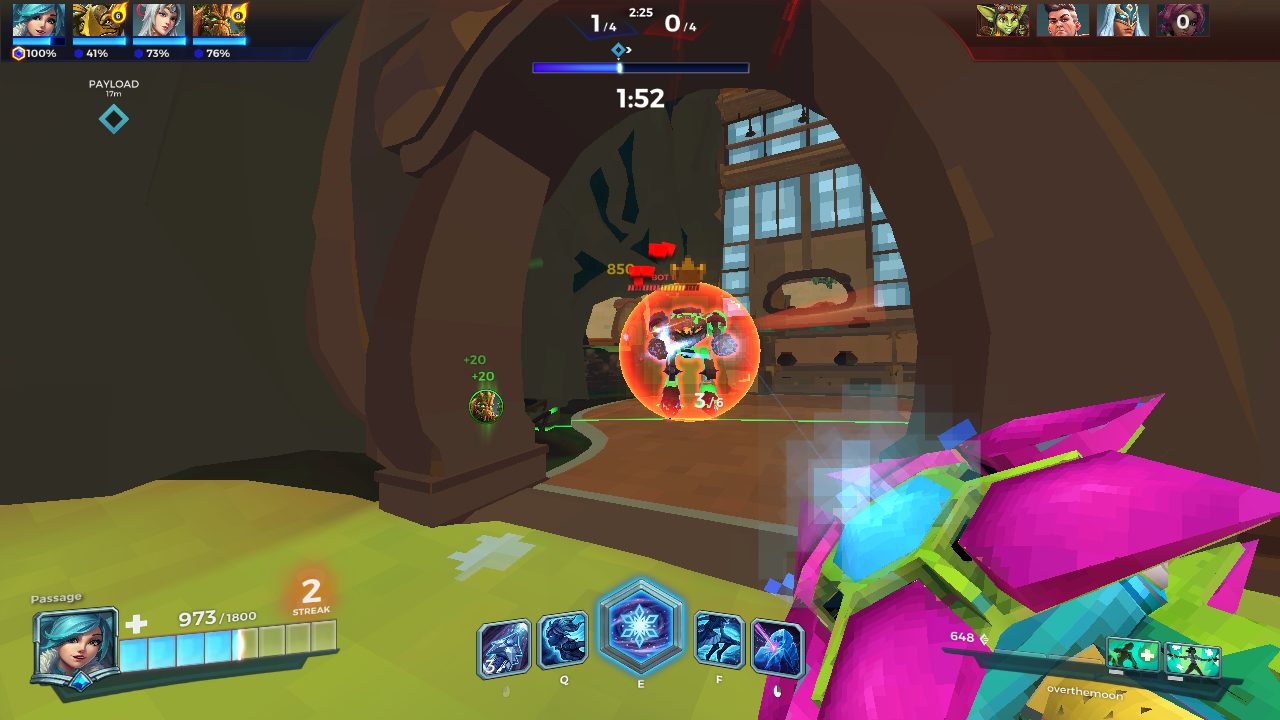model: (635, 293, 740, 420)
